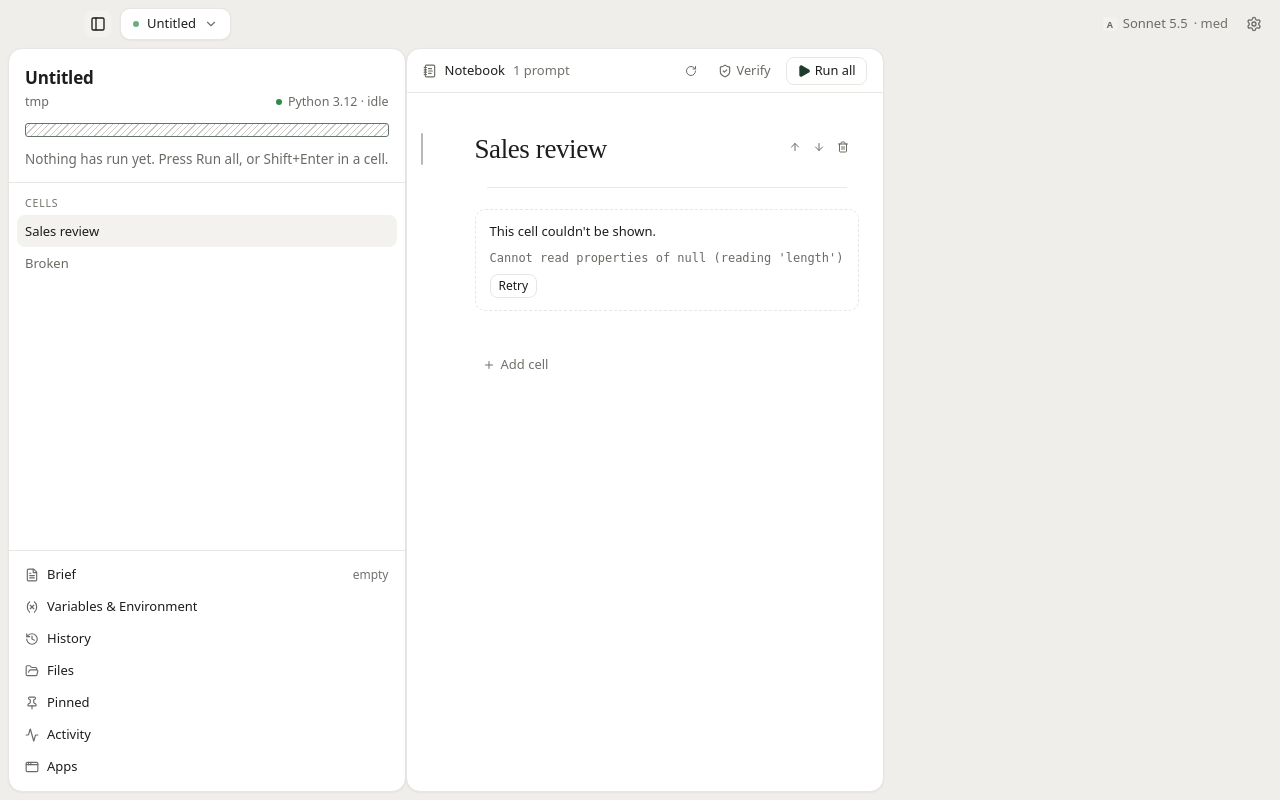
Scenario: App › keeps the notebook up when one cell fails to draw, and Retry draws it again
Check: the message shows "This cell couldn't be shown.", box [474, 209, 858, 311]
Check: the heading "Sales review" is shown, box [474, 134, 607, 164]
Click the button "Retry": click(513, 286) [490, 274, 537, 298]
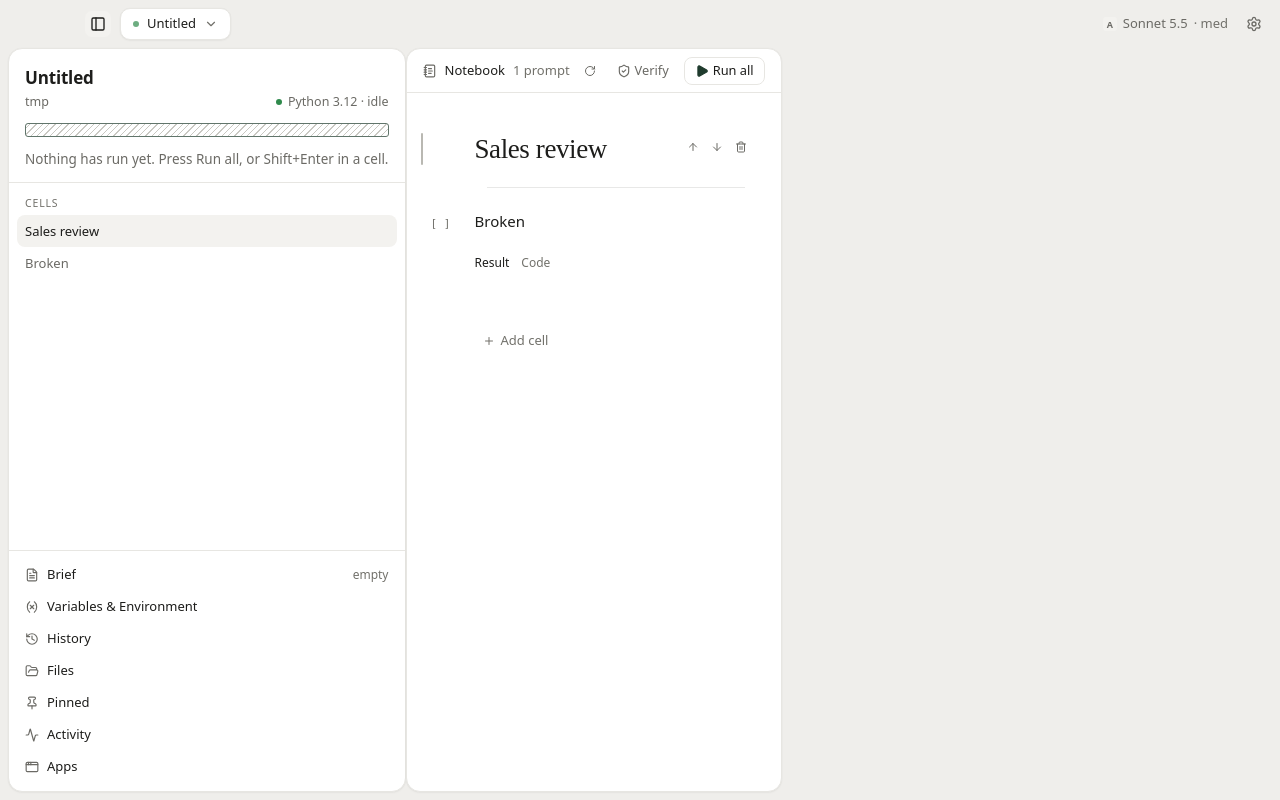
Check: the text box named "Prompt" holds "Broken", box [474, 209, 621, 233]
